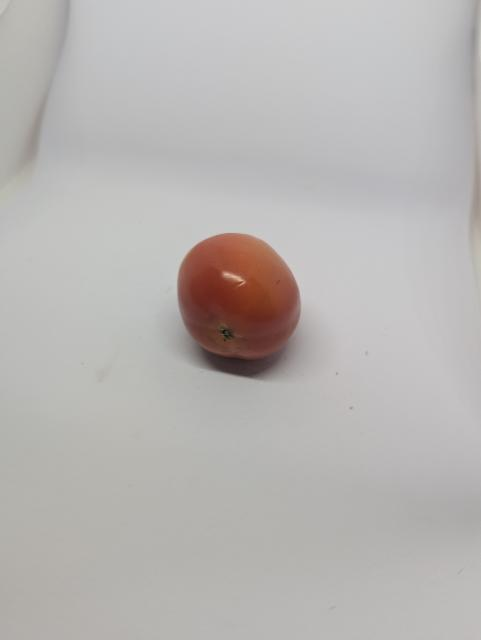red: (168, 218, 311, 364)
